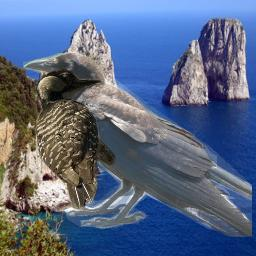Crow: (23, 53, 252, 237)
Woodpecker: (35, 68, 119, 214)
